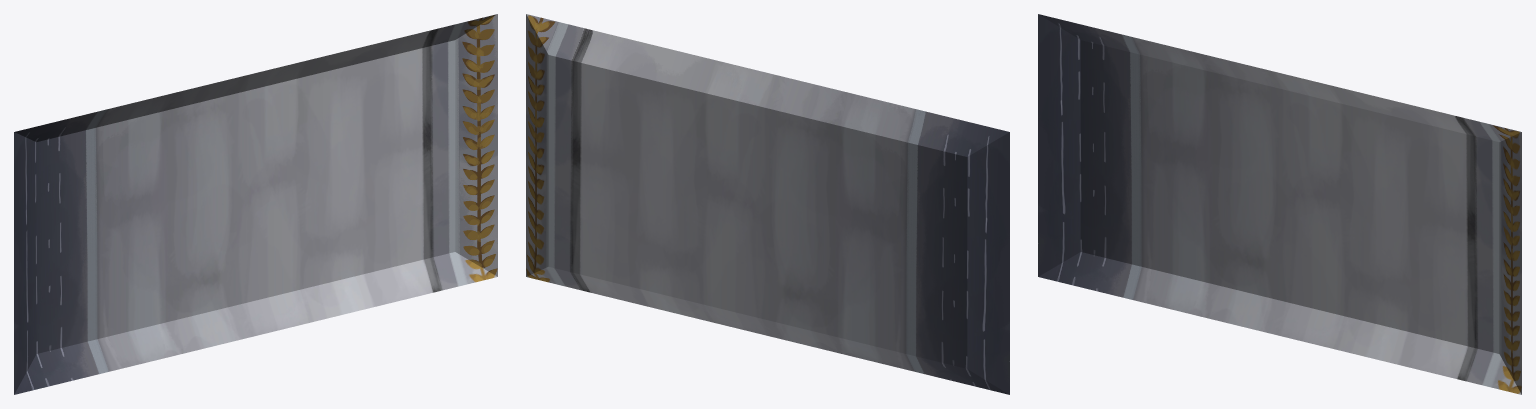
File: Virgo_std_mural.fbx
The picture shows the model from 3 angles, left to right: view 1: azimuth 30°, elevation 25°; view 2: azimuth 150°, elevation 25°; view 3: azimuth 330°, elevation 25°; orthographic projection.
Visible parts, largest first — view 1: polySurface10; view 2: polySurface10; view 3: polySurface10.
Boxes of the visible parts, x1,y1,x2,y2 form: polySurface10: [14, 14, 497, 394]; polySurface10: [526, 14, 1009, 394]; polySurface10: [1038, 14, 1521, 394].
Bounding box in the file's own units: 14.91 × 7.75 × 0.5403.
